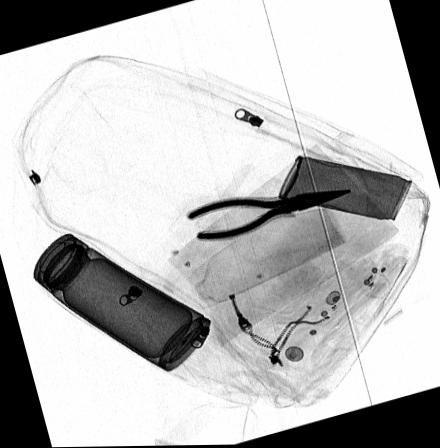Pliers: (185, 189, 352, 241)
